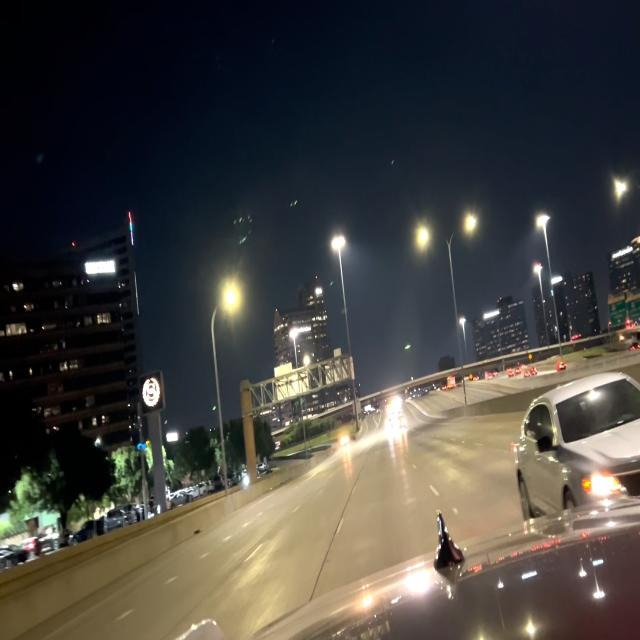back-of-sign: (274, 359, 309, 402), (324, 347, 356, 388)
